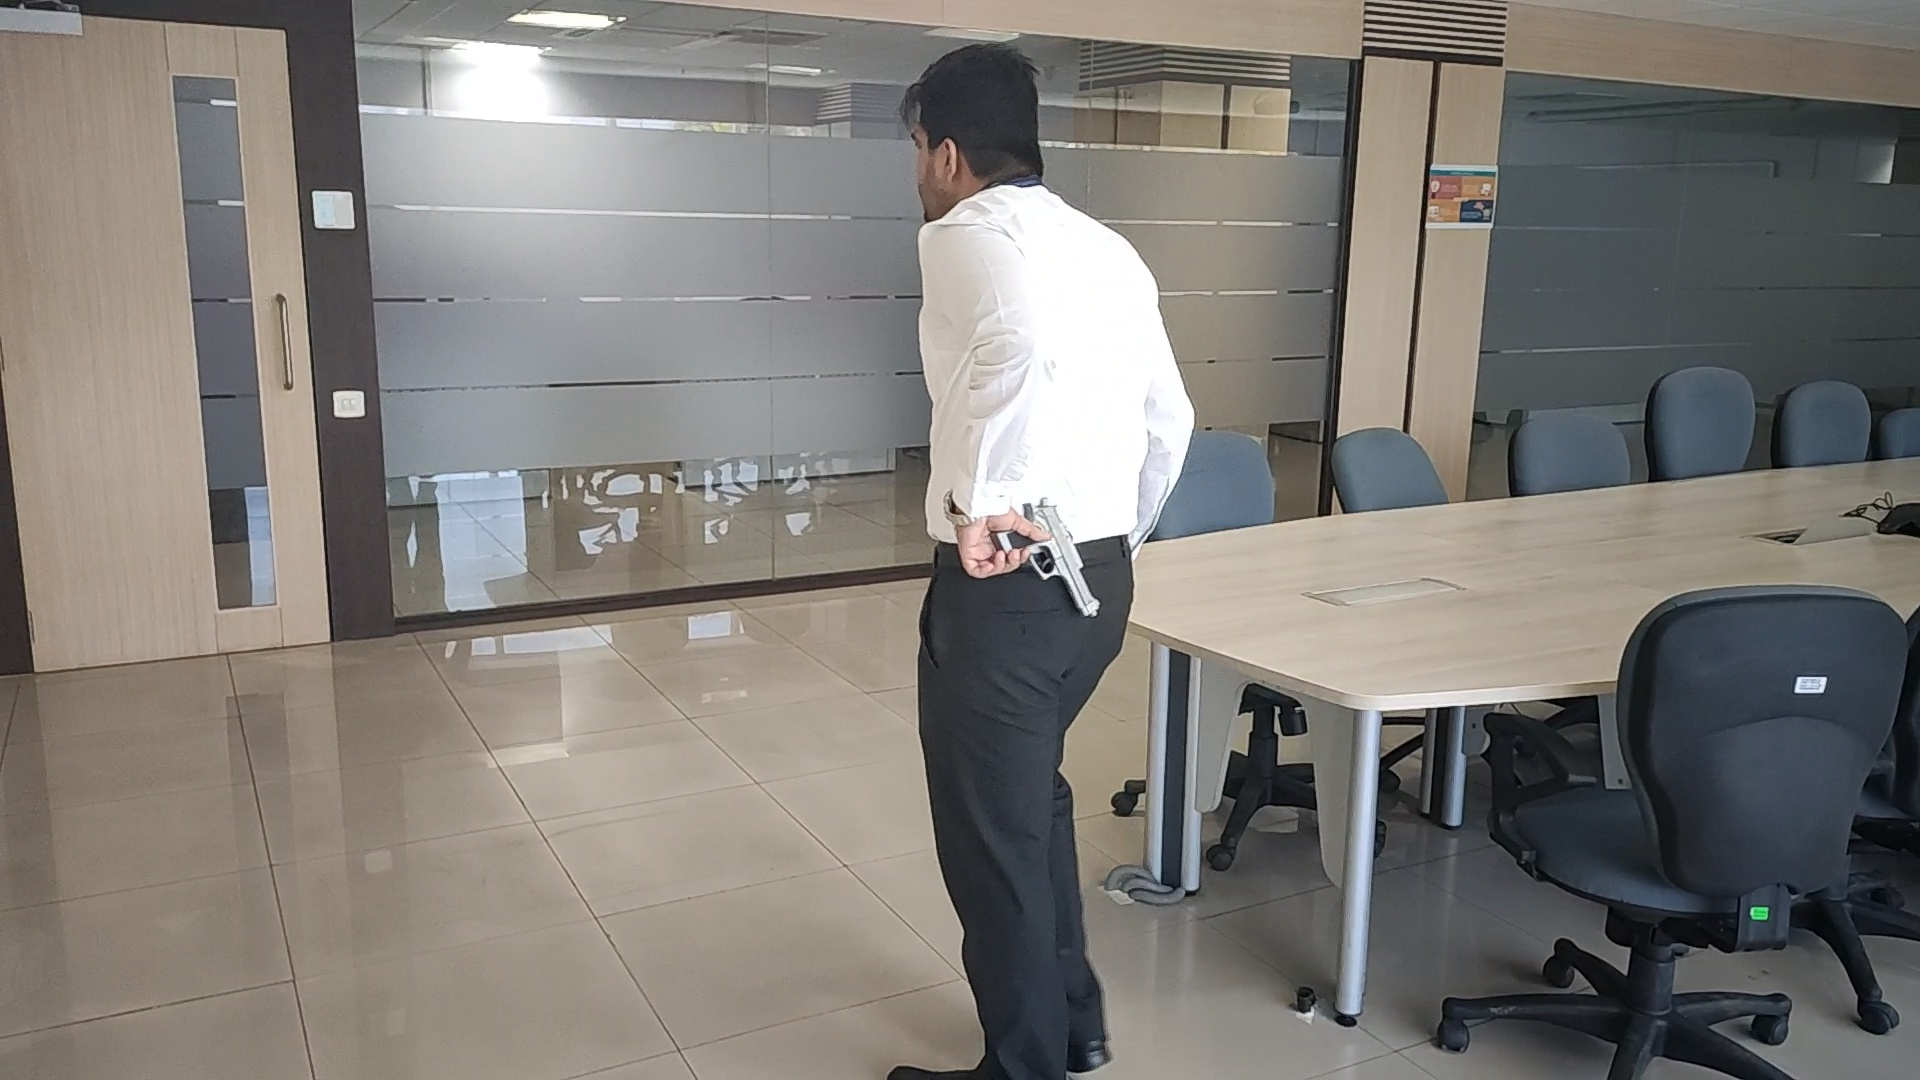gun: (989, 498, 1102, 615)
